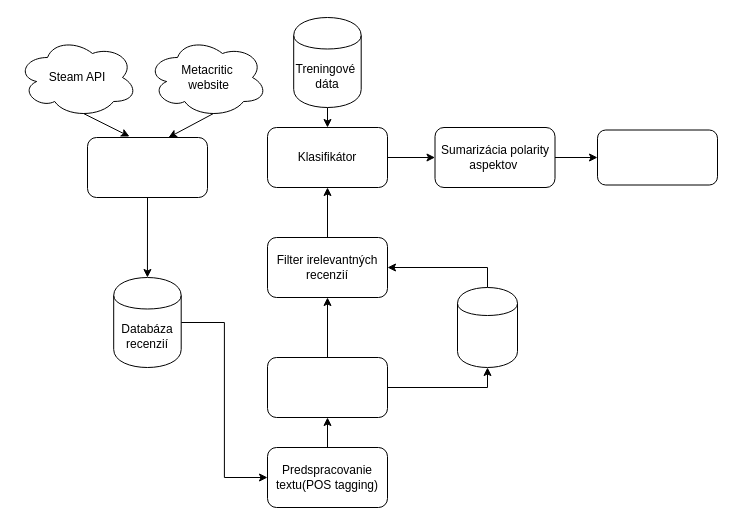
Image size: 735x525. Some labels were removed from this diagram. Here are the shapes that lost their labels. From the top down, the box of each, then its label:
(86, 136, 208, 198): Modul získavania dát
(596, 129, 718, 185): Vizualizácia
(456, 286, 518, 368): zoznam aspektov
(266, 356, 388, 418): Extrakcia aspektov
